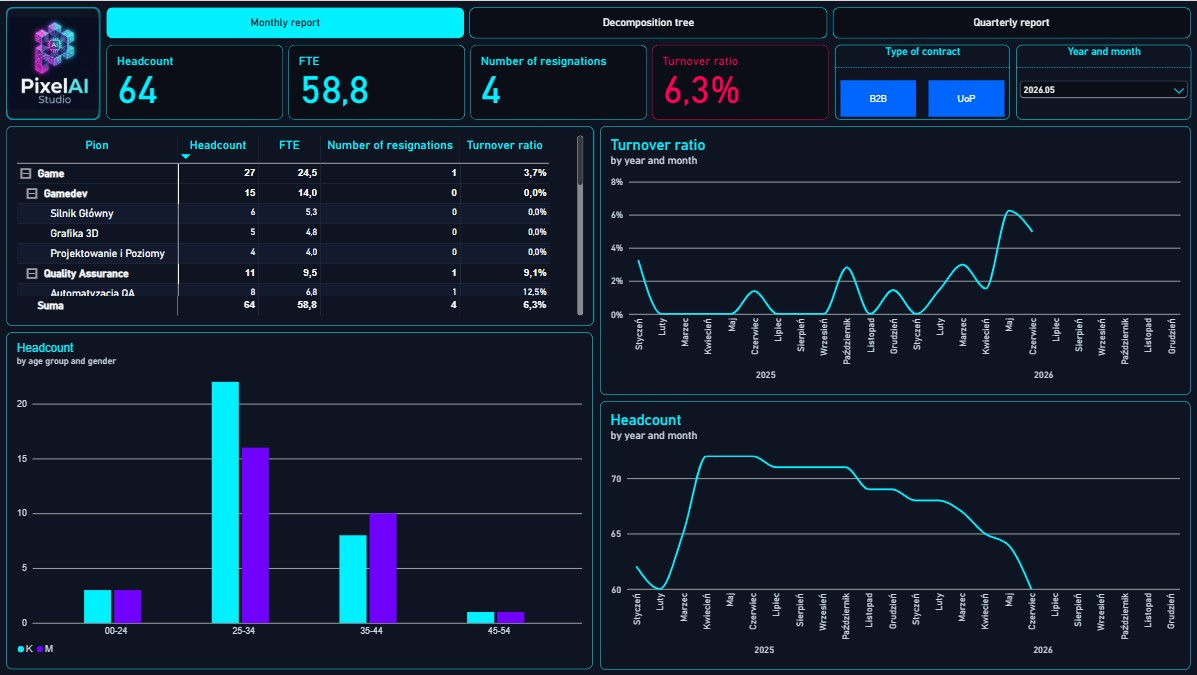

This screenshot's page, from the dashboard's own definition file:
{"tool":"powerbi","page":{"name":"Monthly report","canvas":[1920,1080],"ordinal":0},"visuals":[{"type":"slicer","title":"Year and month","fields":{"Values":["dimKalendarz.Rok.Miesiąc"]},"box":[1625.3,70,280,120],"z":0},{"type":"cardVisual","fields":{"Data":["Miary.Headcount","Miary.FTE","Miary.Number of resignations","Miary.Turnover ratio"]},"box":[170,70,1158,120],"z":1000},{"type":"pivotTable","fields":{"Rows":["FctZatrudnienie.Pion","FctZatrudnienie.Departament","FctZatrudnienie.Team"],"Values":["Miary.Headcount","Miary.FTE","Miary.Number of resignations","Miary.Turnover ratio"]},"box":[10.5,200,940,320],"z":2000},{"type":"advancedSlicerVisual","title":"Type of contract","fields":{"Values":["DimPracownicy.Rodzaj umowy"]},"box":[1335.5,70,280,120],"z":3000},{"type":"lineChart","title":"Headcount","fields":{"Category":["dimKalendarz.Rok","dimKalendarz.Miesiąc"],"Y":["Miary.Headcount"]},"box":[960,640,945,430],"z":4000},{"type":"lineChart","title":"Turnover ratio","fields":{"Category":["dimKalendarz.Rok","dimKalendarz.Miesiąc"],"Y":["Miary.Turnover ratio"]},"box":[960.1,200.2,945.7,430],"z":5000},{"type":"clusteredColumnChart","title":"Headcount","fields":{"Category":["DimPracownicy.Grupa wiekowa"],"Series":["DimPracownicy.Płeć"],"Y":["Miary.Headcount"]},"box":[10.8,530.3,938.4,539.3],"z":6000},{"type":"image","box":[10.5,10.5,150,180],"z":7000},{"type":"pageNavigator","box":[170,10.5,1735,50],"z":8000}]}

Visuals, with their boxes in screenshot pixels (x1, y1, x2, y2), scaled from the page's 1920x1080 canvas onto the 1197x675 screenshot:
"Year and month" slicer: x1=1013, y1=44, x2=1188, y2=119
cardVisual - Miary.Headcount x Miary.FTE: x1=106, y1=44, x2=828, y2=119
pivotTable - FctZatrudnienie.Pion x FctZatrudnienie.Departament: x1=7, y1=125, x2=593, y2=325
"Type of contract" advancedSlicerVisual: x1=833, y1=44, x2=1007, y2=119
"Headcount" lineChart: x1=598, y1=400, x2=1188, y2=669
"Turnover ratio" lineChart: x1=599, y1=125, x2=1188, y2=394
"Headcount" clusteredColumnChart: x1=7, y1=331, x2=592, y2=668
image: x1=7, y1=7, x2=100, y2=119
pageNavigator: x1=106, y1=7, x2=1188, y2=38
